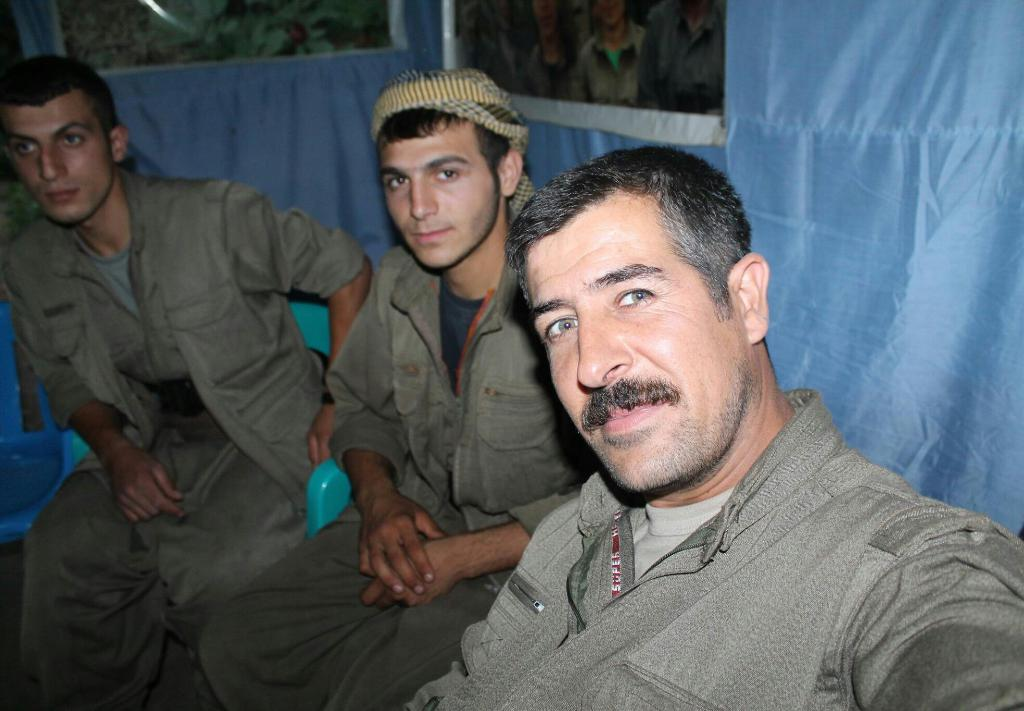Human-face: (526, 202, 742, 493), (376, 126, 495, 268), (3, 101, 114, 224)
